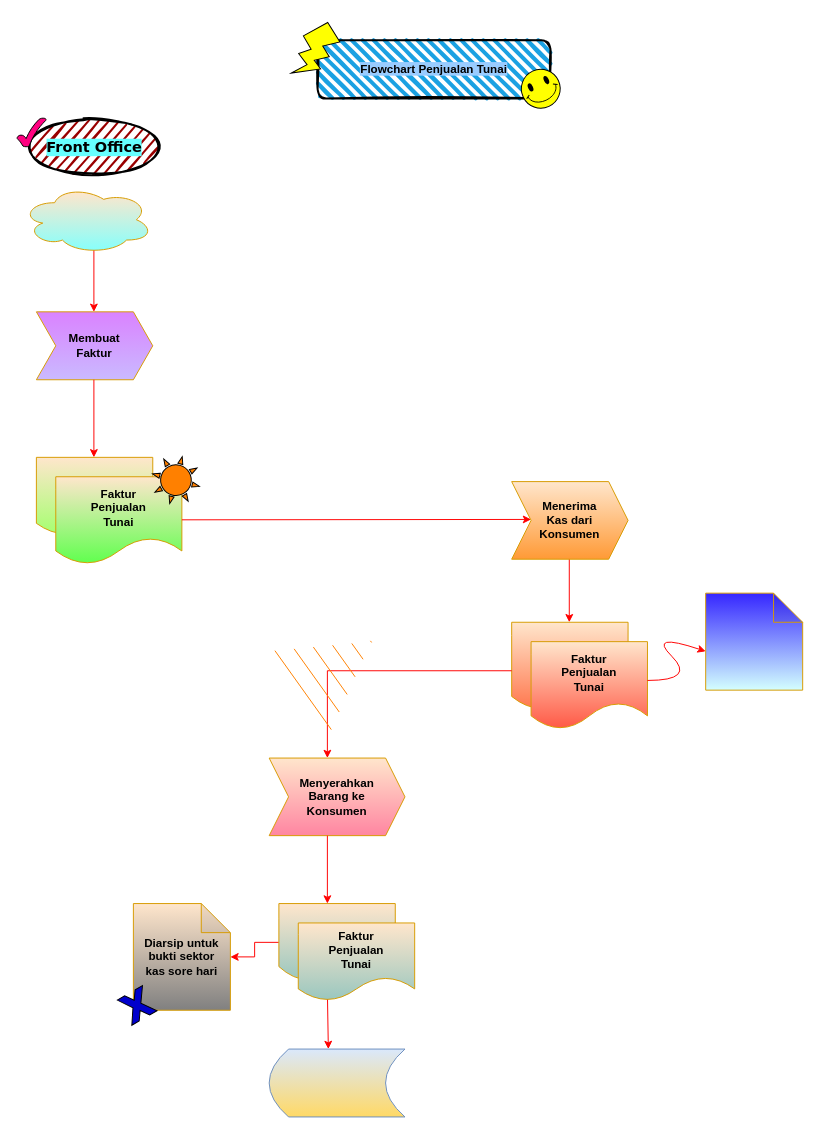
Some shapes in this 820 by 1135 pixel diagram are drawn without their labels. The shapes that lost their labels are listed below. From the top down, each one's centre as x and y in pixels, then its label:
At point 87,219: "Mulai".
At point 754,641: "FPT Ditandatangani dan dicap lunas".
At point 336,1082: "Konsumen".
